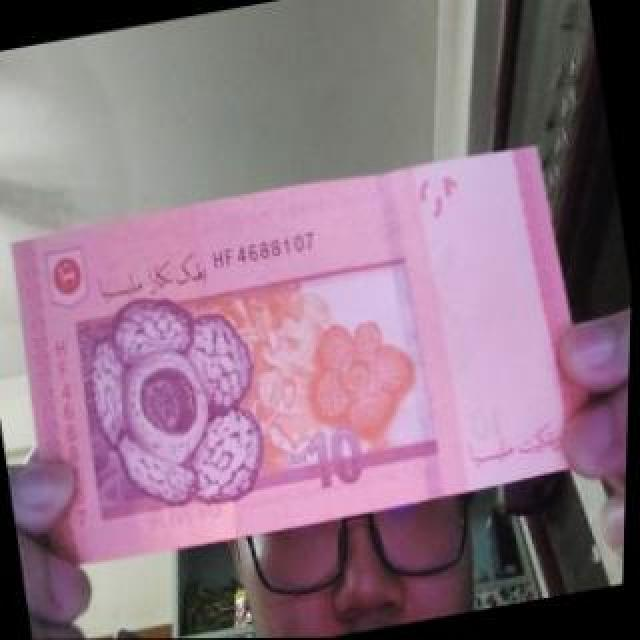10 Ringgit: (0, 134, 613, 582)
